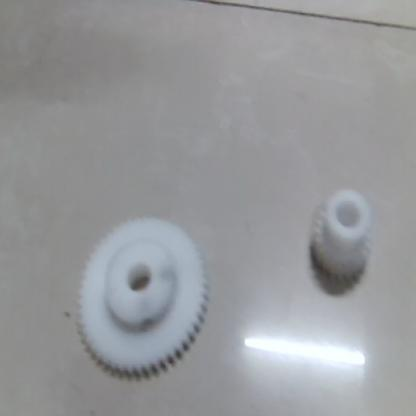FOD: (73, 219, 219, 384), (303, 183, 384, 299)
